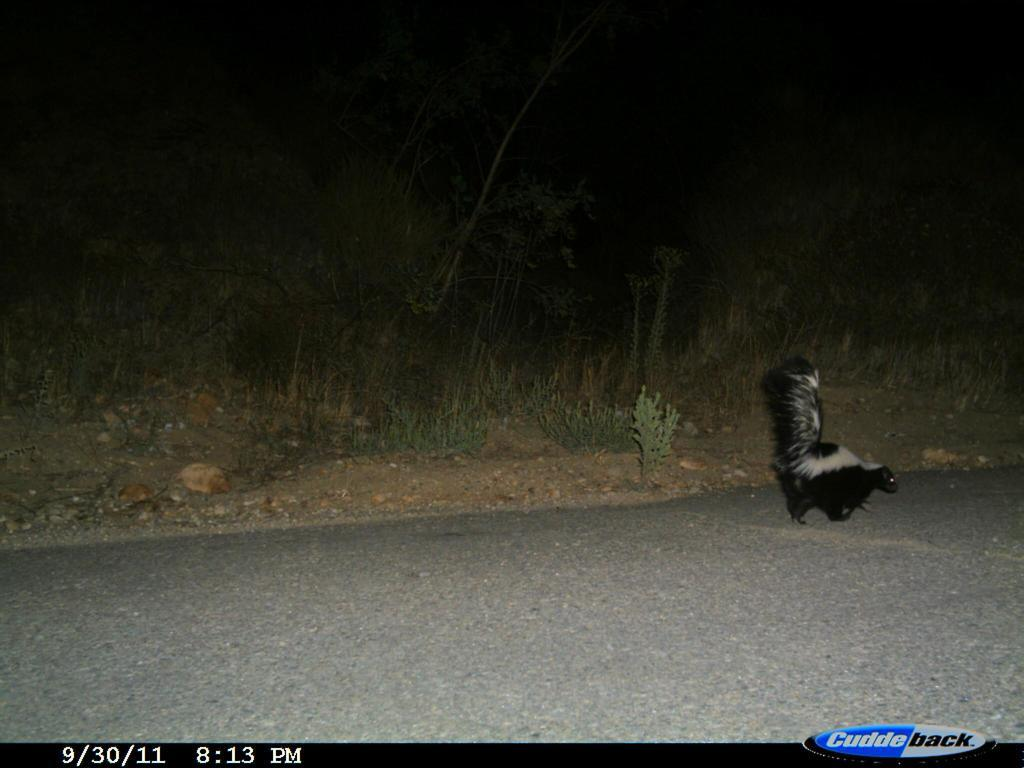skunk: (757, 349, 908, 542)
